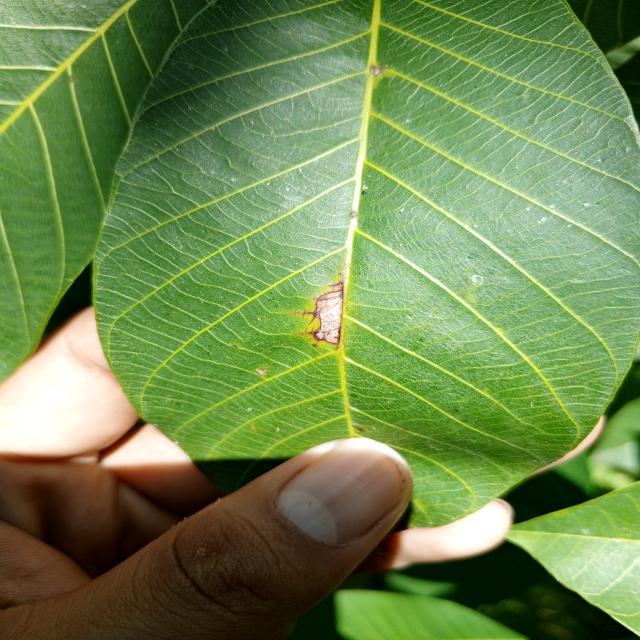Corynespora: (291, 281, 344, 344)
Leaf-Blight: (316, 292, 342, 343)
